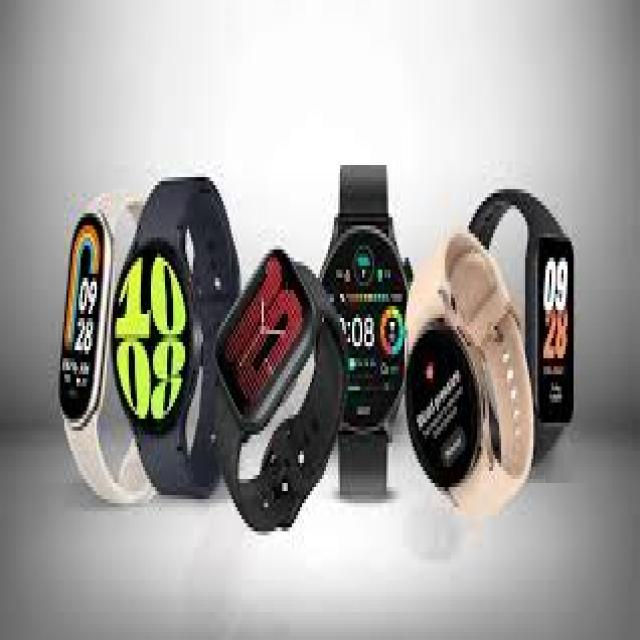objects: (58, 213, 111, 427)
